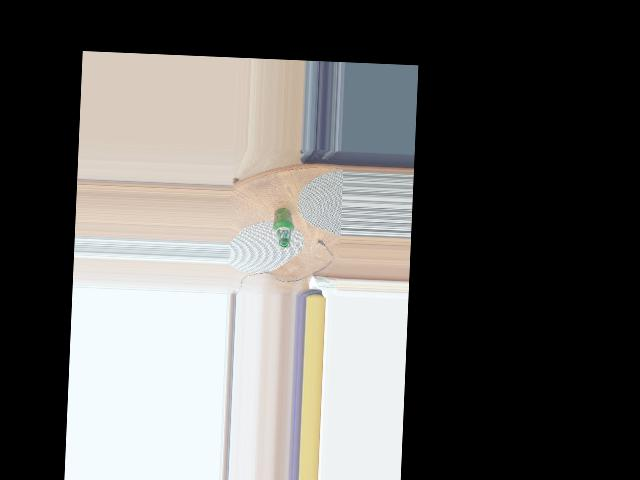beer: (271, 207, 294, 248)
